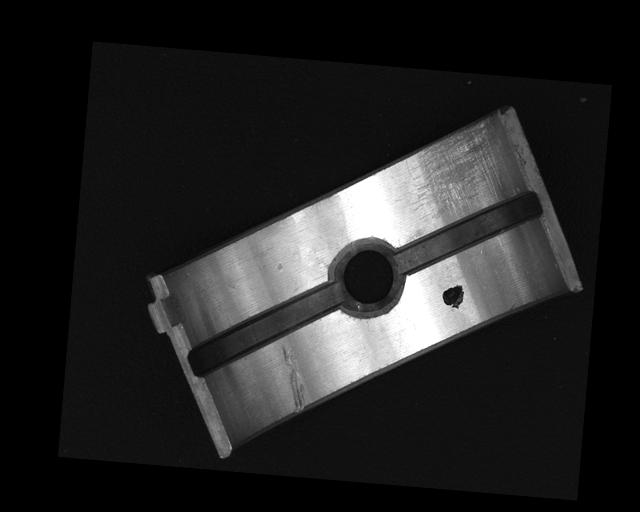blot: (440, 282, 466, 310)
bruise: (275, 262, 284, 274)
gap: (188, 270, 342, 386), (392, 180, 544, 284)
hole: (328, 235, 405, 318)
nick: (276, 344, 310, 414)
scratch: (402, 114, 510, 228)
